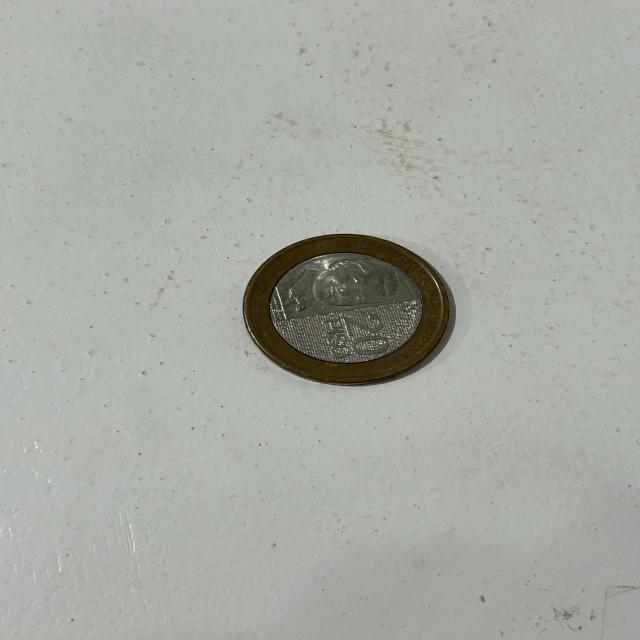20_New_Front: (317, 306, 400, 364)
